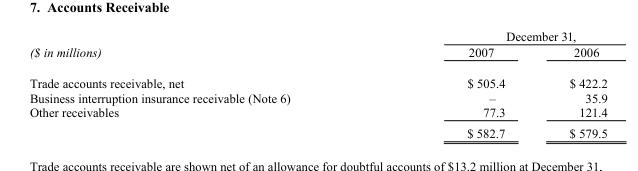table: (28, 29, 606, 139)
table column: (28, 29, 377, 139), (377, 29, 536, 139), (536, 29, 606, 139)
table column header: (28, 29, 606, 67)
table row: (28, 44, 606, 67), (28, 67, 606, 89), (28, 104, 606, 122), (28, 122, 606, 139), (28, 29, 606, 44), (28, 89, 606, 104)
table spanning cell: (28, 29, 377, 67), (377, 29, 606, 44)
